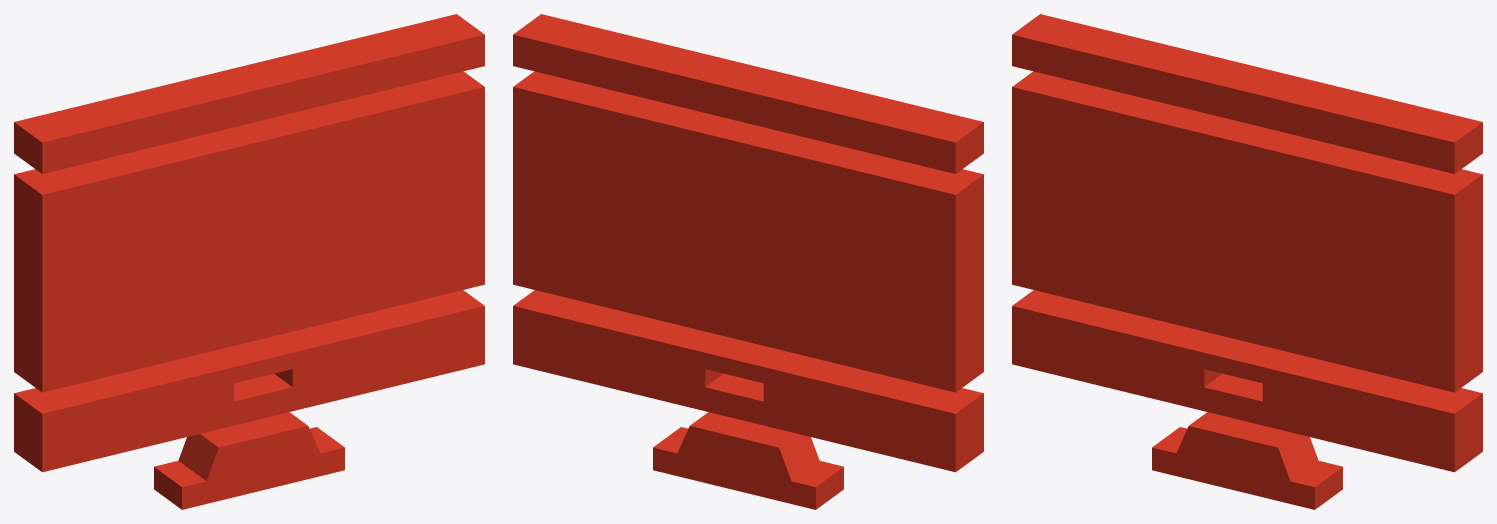
The model's file is Icon_Monitor_02.fbx.
3 views of the same model, side by side, from view 1: azimuth 30°, elevation 25°; view 2: azimuth 150°, elevation 25°; view 3: azimuth 330°, elevation 25° (orthographic).
Visible parts, largest first — view 1: Icon_Monitor_02; view 2: Icon_Monitor_02; view 3: Icon_Monitor_02.
Part boxes in pixels (x1=…): Icon_Monitor_02: x1=14, y1=14, x2=484, y2=509; Icon_Monitor_02: x1=513, y1=14, x2=983, y2=509; Icon_Monitor_02: x1=1012, y1=14, x2=1482, y2=509.
Size of the model in its own units: 80.94 by 70.16 by 8.93.
